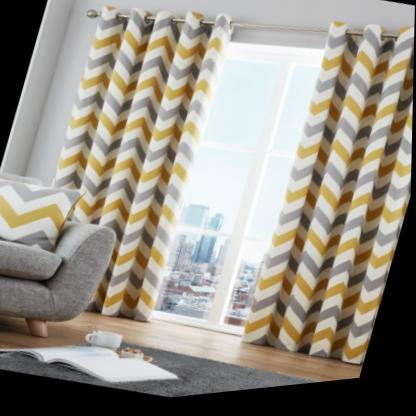Curtains: (53, 8, 415, 372)
